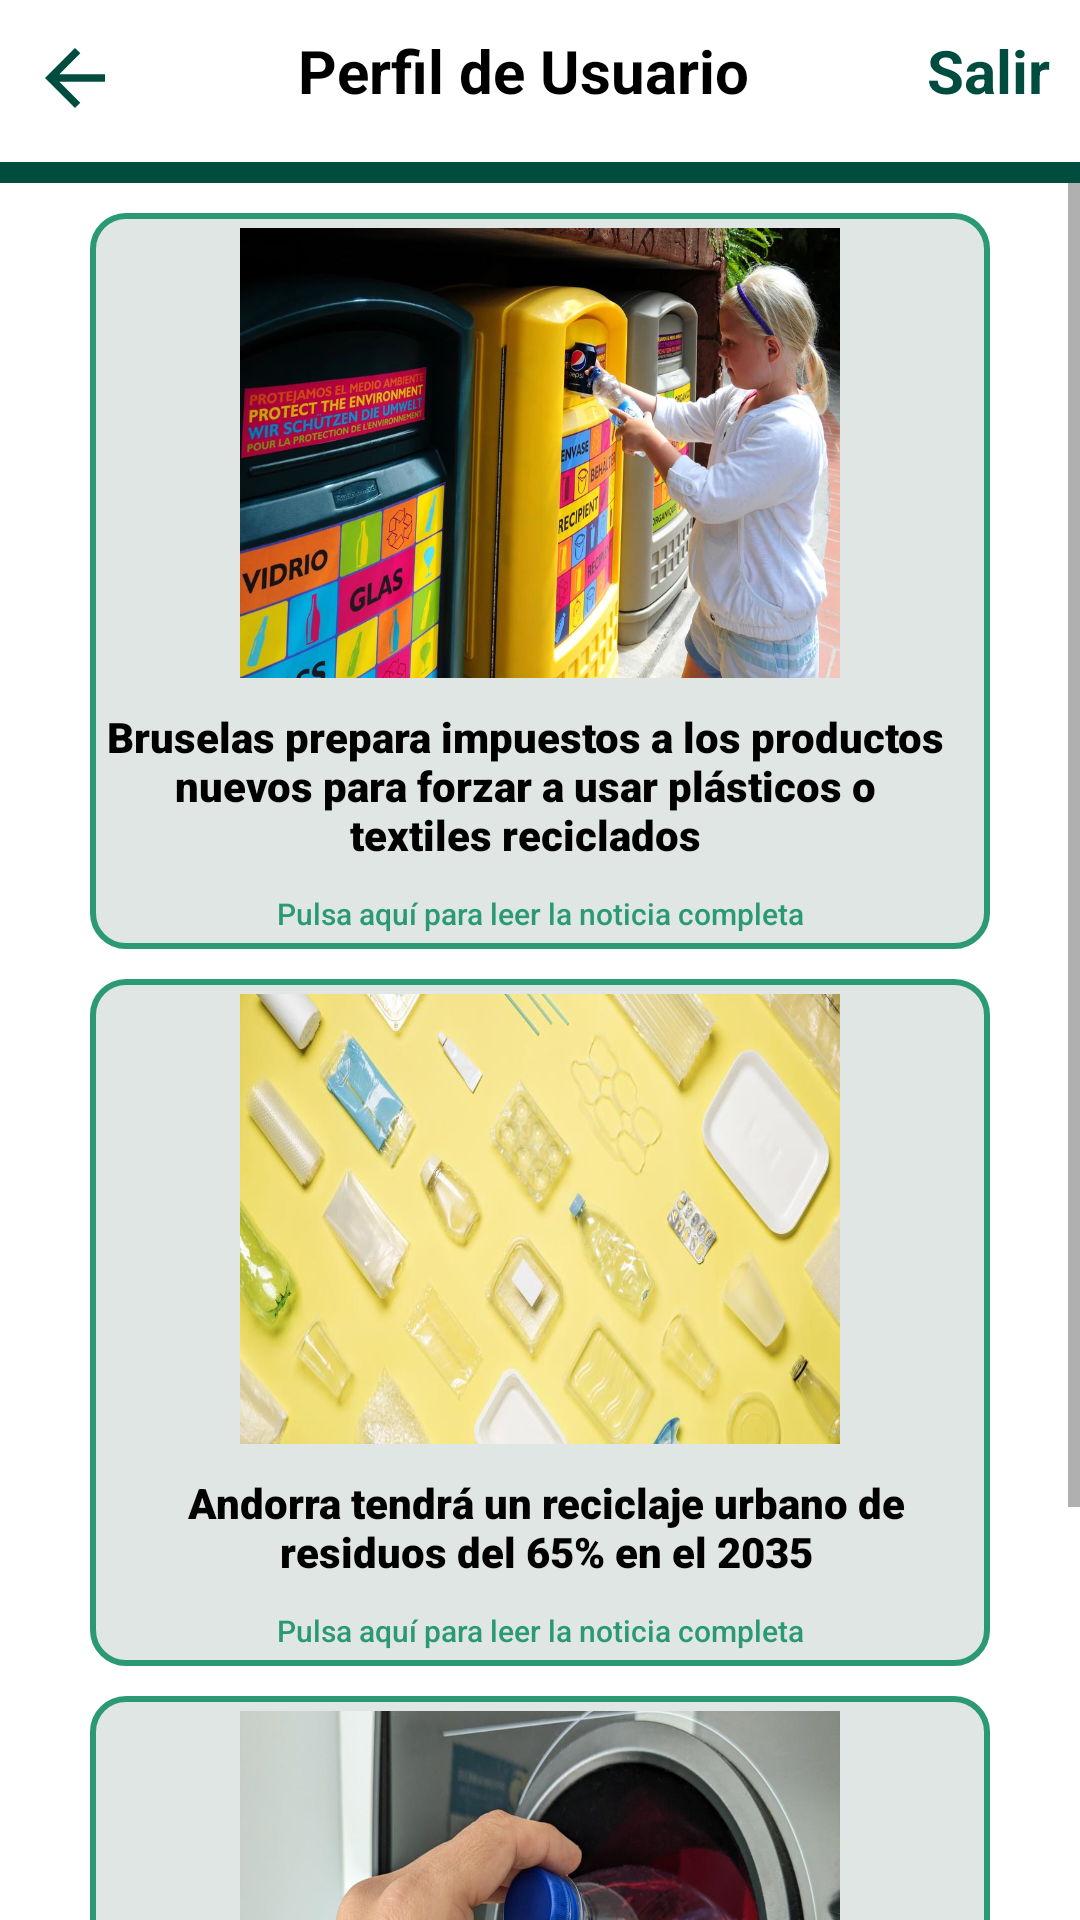

Where icons sit on this 1080*1920 app screen, as {"left": x1, "top": y1, "right": x2, "bottom": y2}:
arrow back: {"left": 45, "top": 48, "right": 105, "bottom": 108}
